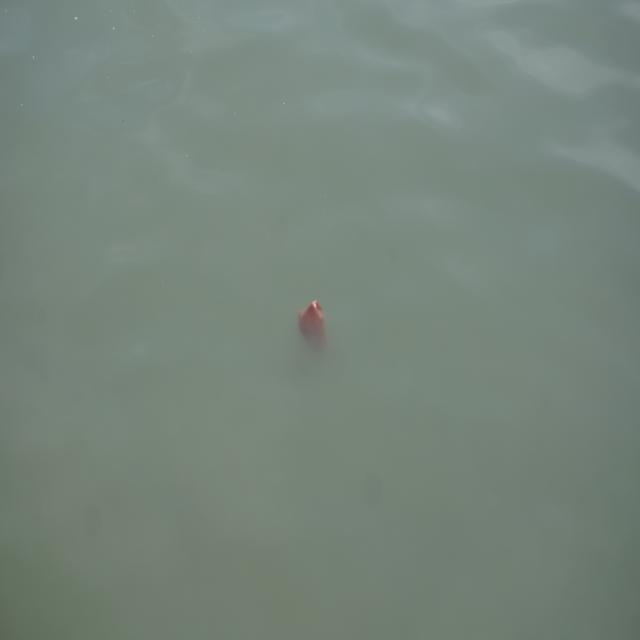Kantong Plastik: (297, 294, 328, 353)
